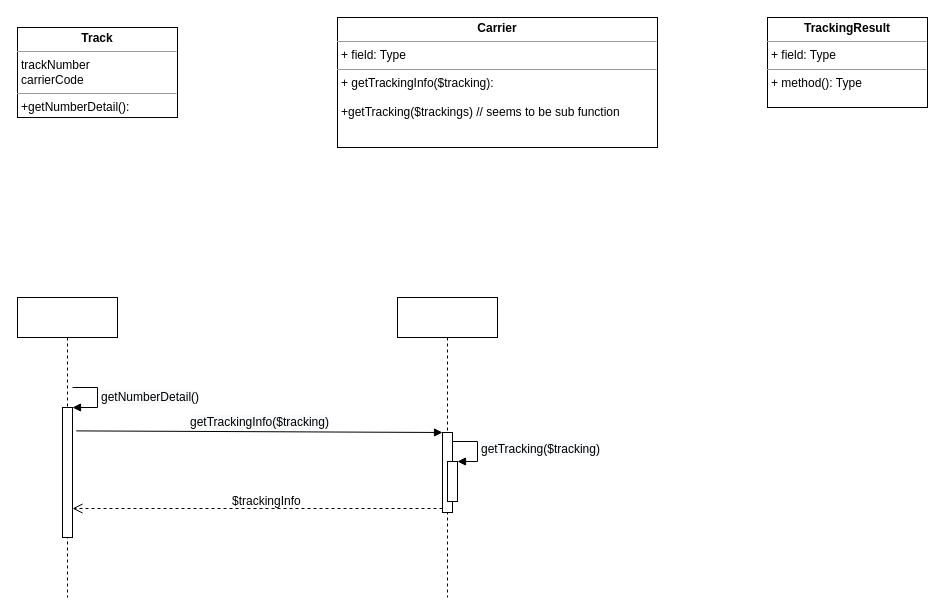
Image size: 945x615. Some labels were removed from this diagram. Each missing label, with the centre of its shape:
":Carrier" belongs at point (447, 447).
":Track" belongs at point (67, 447).
